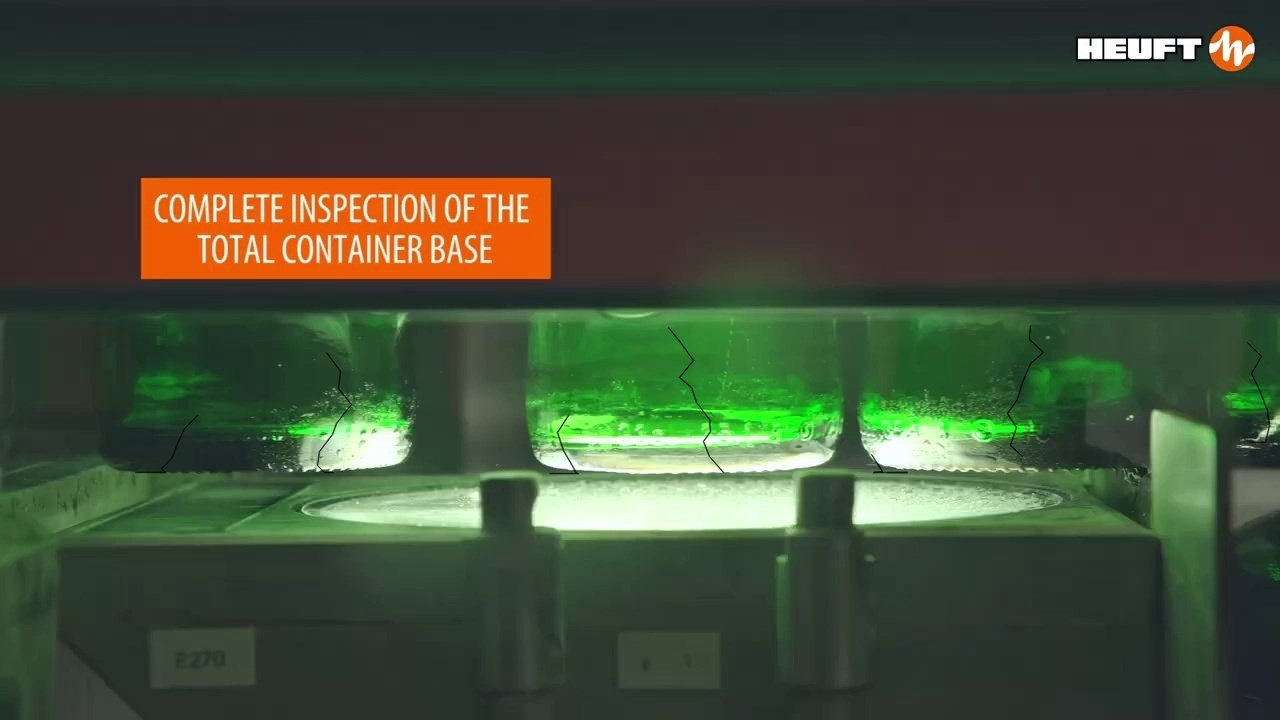bottle: (103, 308, 416, 474), (525, 312, 845, 474), (863, 294, 1107, 469)
crack: (668, 327, 723, 472), (1007, 325, 1043, 456), (135, 415, 197, 472)
